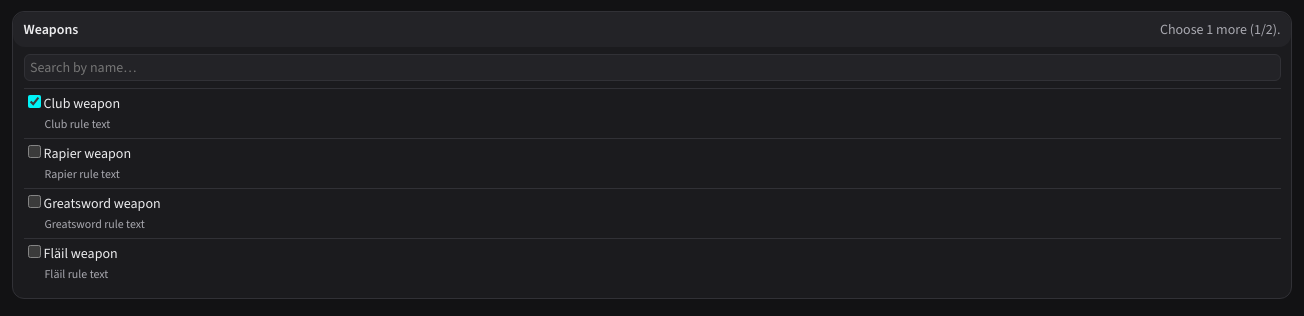
Test: SearchableOptionList › never hides a selected option, even when it does not match the search
This screenshot has width=1304, height=316.
Type "rapier" into the search field named "Search Weapons". click: (652, 67)
box: [24,54,1280,81]
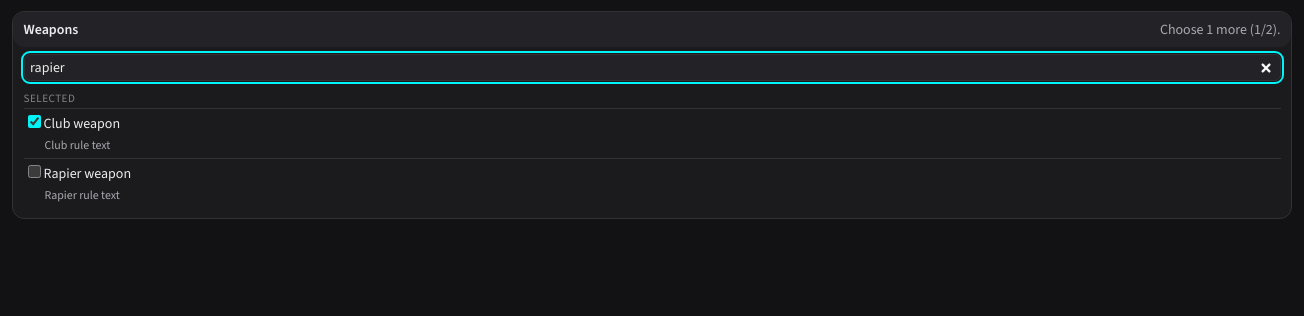
Now the text "Selected" is shown, box [24,91,75,106]
Click the checkbox labelled "Club weapon". click: click(34, 122)
box: [28,116,40,128]
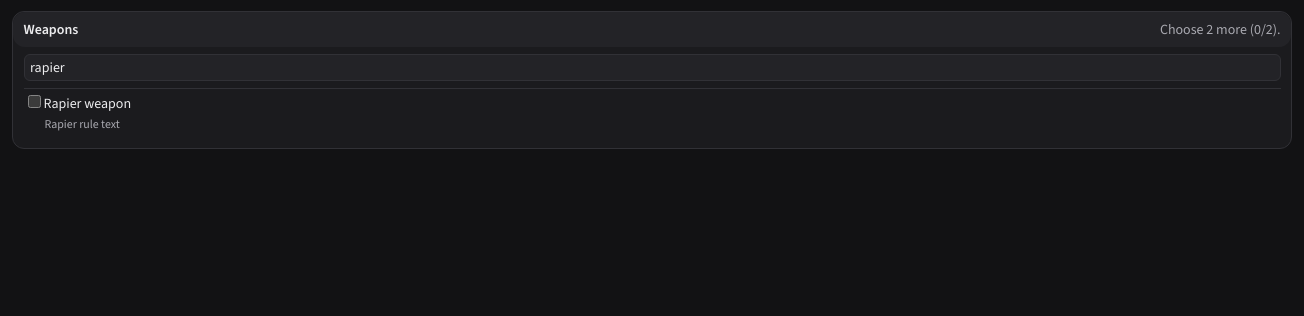
Now the text "Club" is gone
Now the text "Selected" is gone
